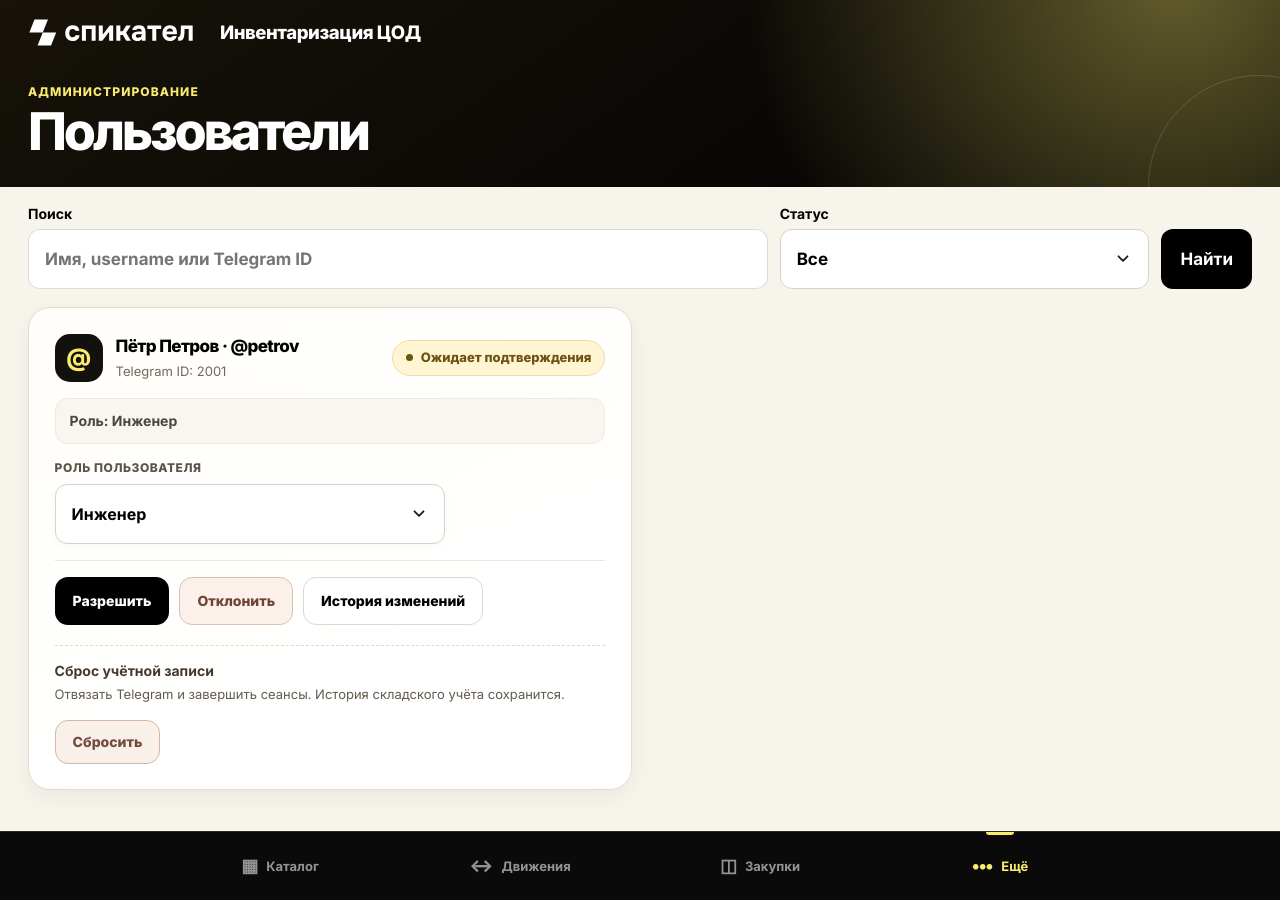
Scenario: ADMIN решает PENDING access request: REJECT
Expected: the text "Ожидает подтверждения" is shown, x1=392 y1=340 x2=605 y2=376
Expected: the button "Разрешить" is shown, x1=55 y1=577 x2=170 y2=625
Click the button "Отклонить" at (236, 601), box x1=180 y1=577 x2=293 y2=625
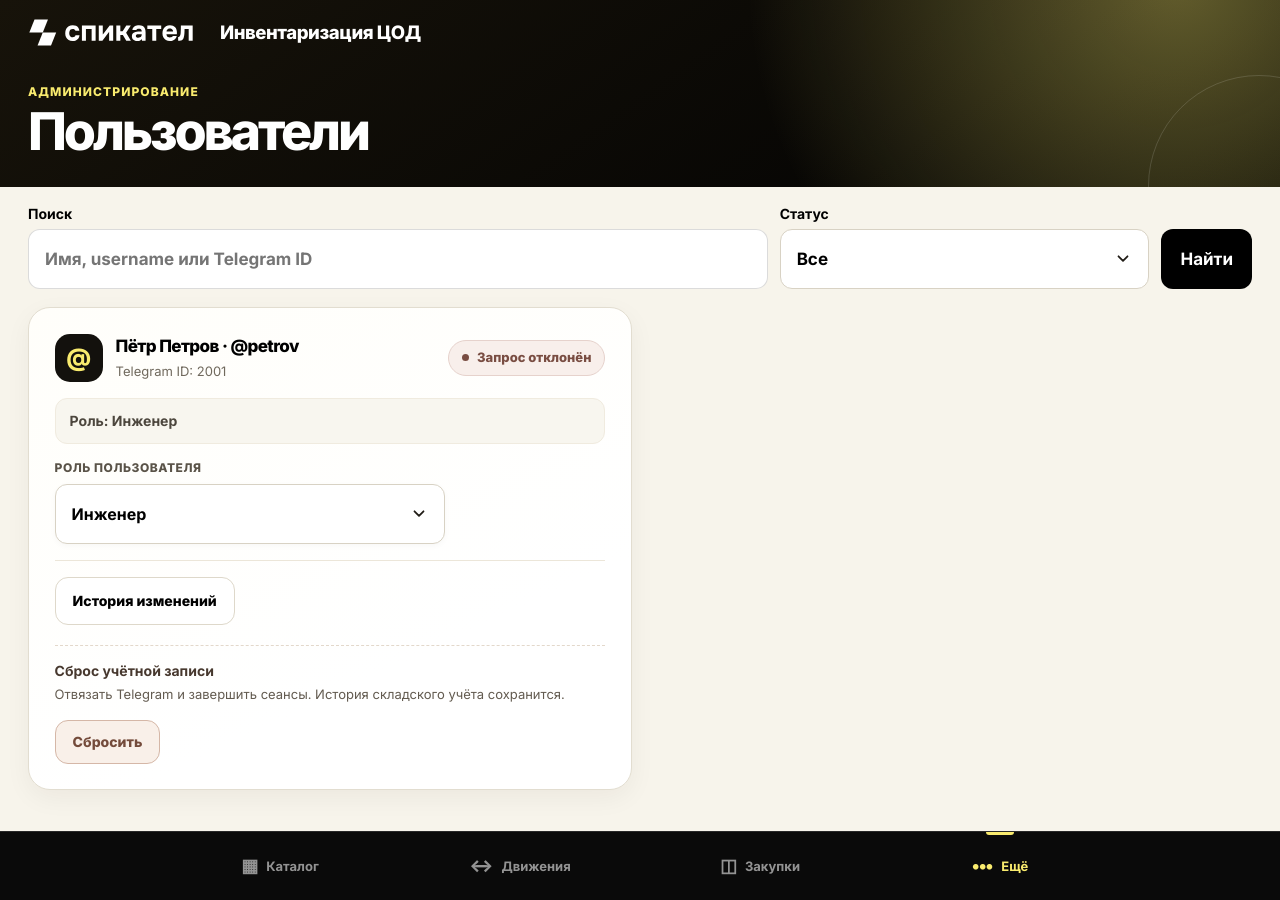
Now the text "Запрос отклонён" is shown, box x1=448 y1=340 x2=605 y2=376
